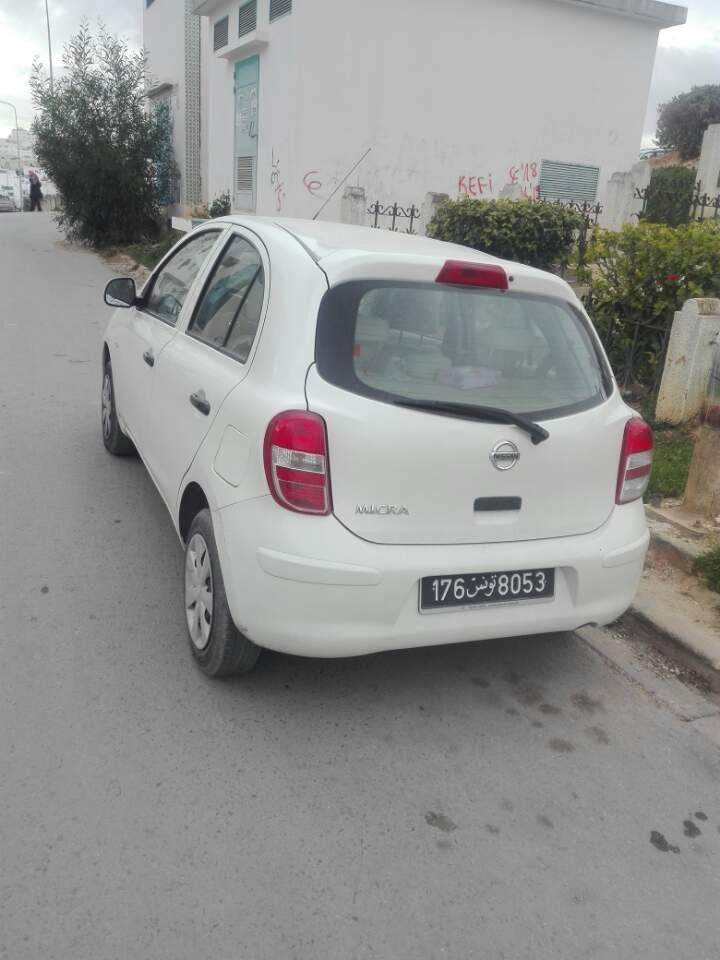LP: (419, 568, 557, 604)
